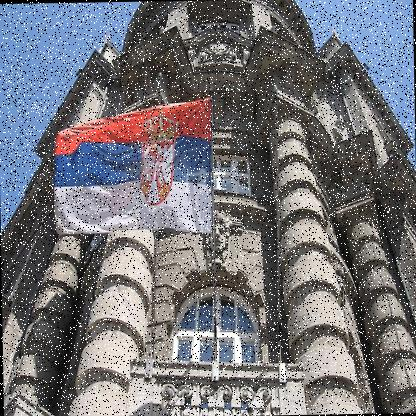rs: (53, 98, 214, 237)
